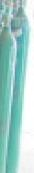cylinder: (1, 1, 34, 173)
